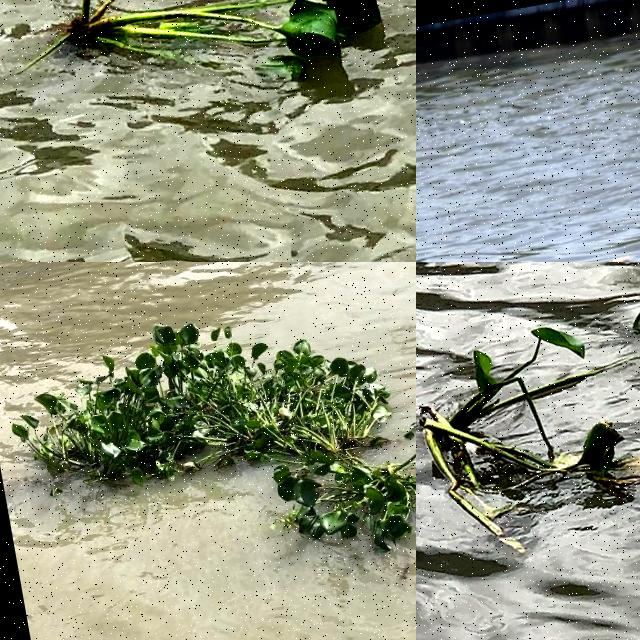water-hyacinth: (1, 288, 400, 513), (417, 296, 640, 568), (10, 1, 384, 140), (248, 415, 417, 580)
